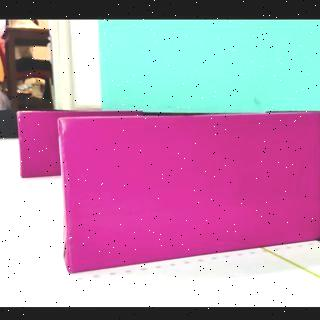xparking: (68, 118, 320, 278), (21, 112, 57, 177)
